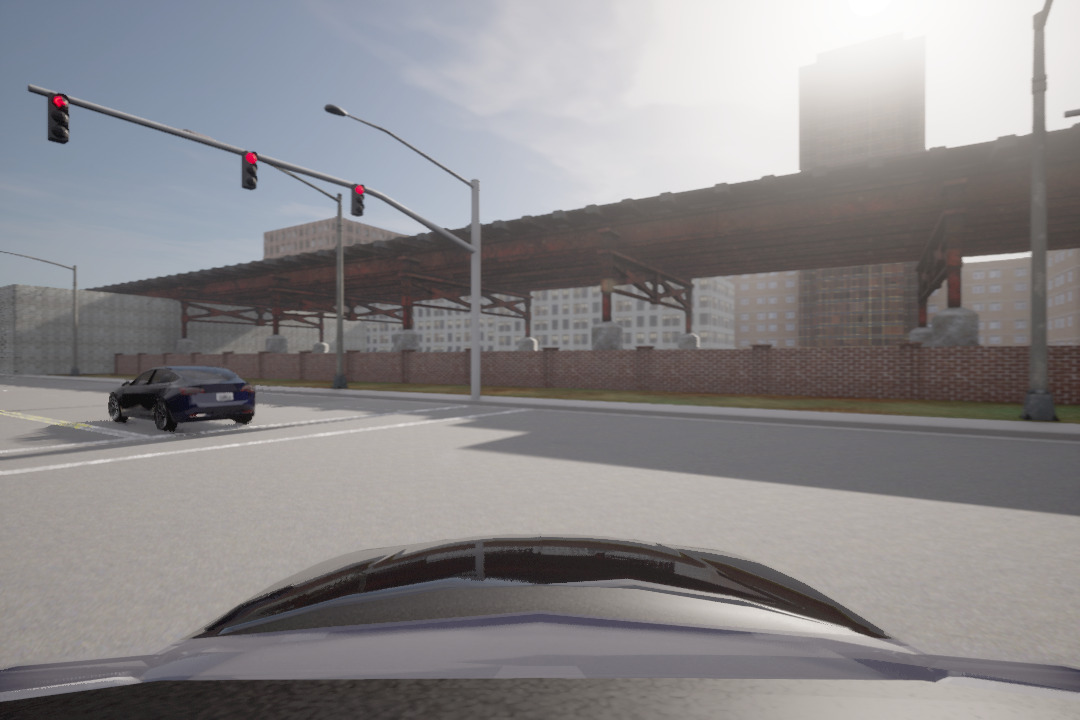TrafficLight: (44, 89, 71, 141), (241, 148, 265, 195), (351, 181, 370, 224)
